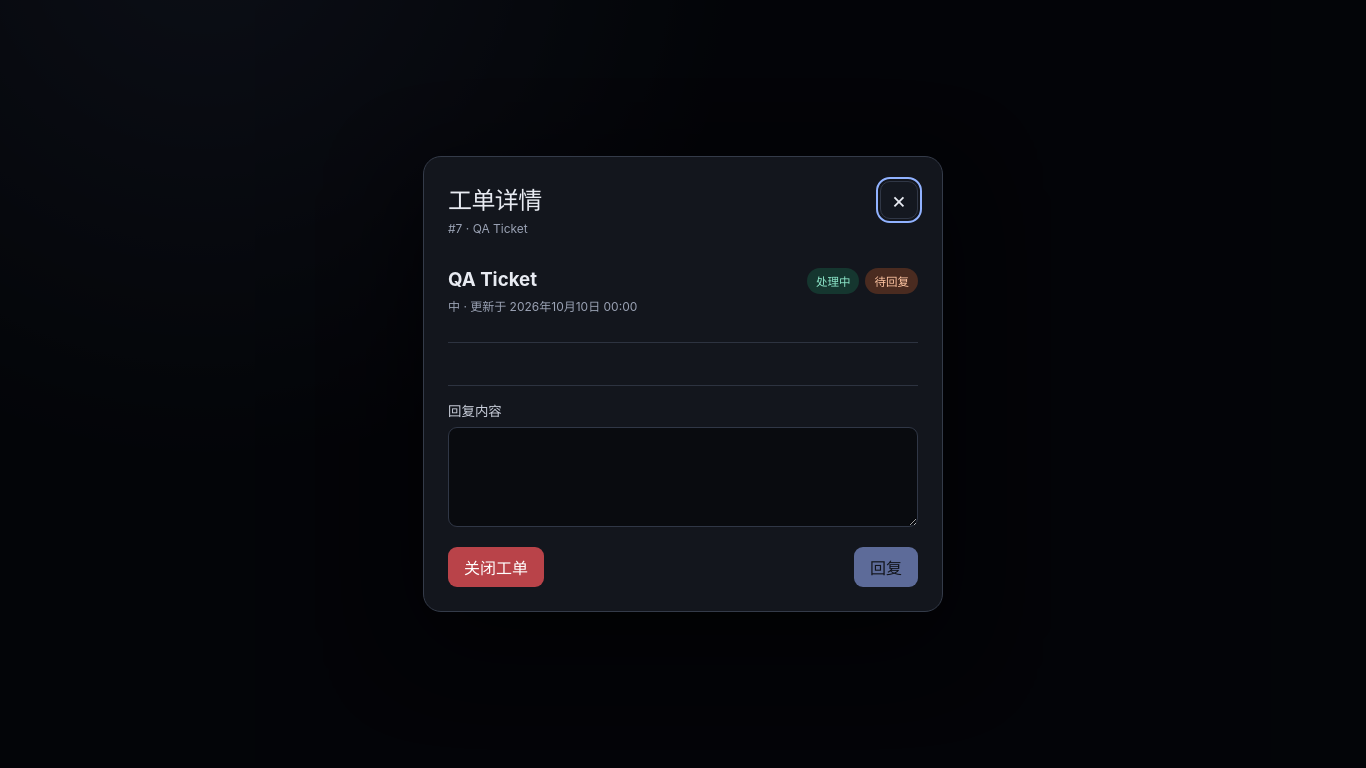
Test: ticket confirmation overlay › cancels without a write and still confirms closure normally
Click the button "关闭工单".
click(496, 567)  # box [448, 547, 544, 587]
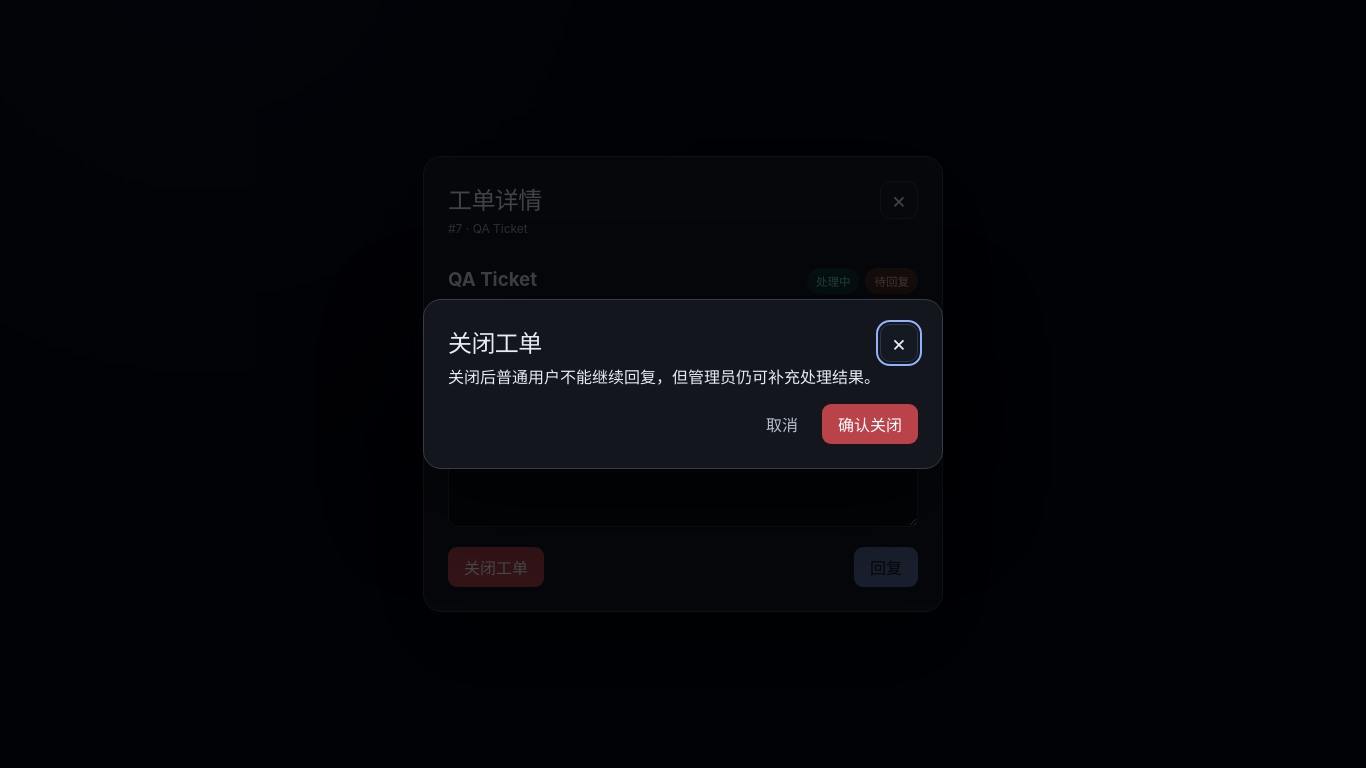
Click the button "取消".
click(782, 424)  # box [750, 404, 814, 444]
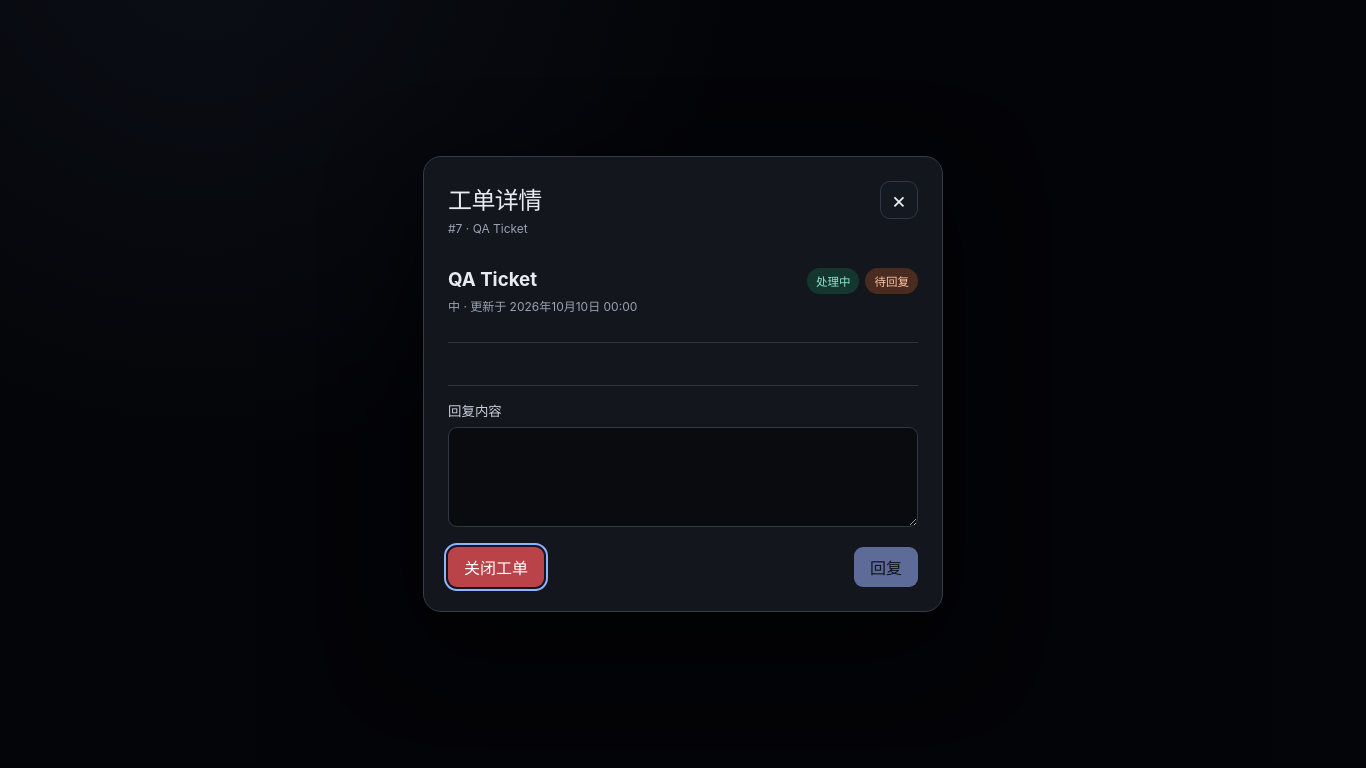
Click the button "关闭工单".
click(496, 567)  # box [448, 547, 544, 587]
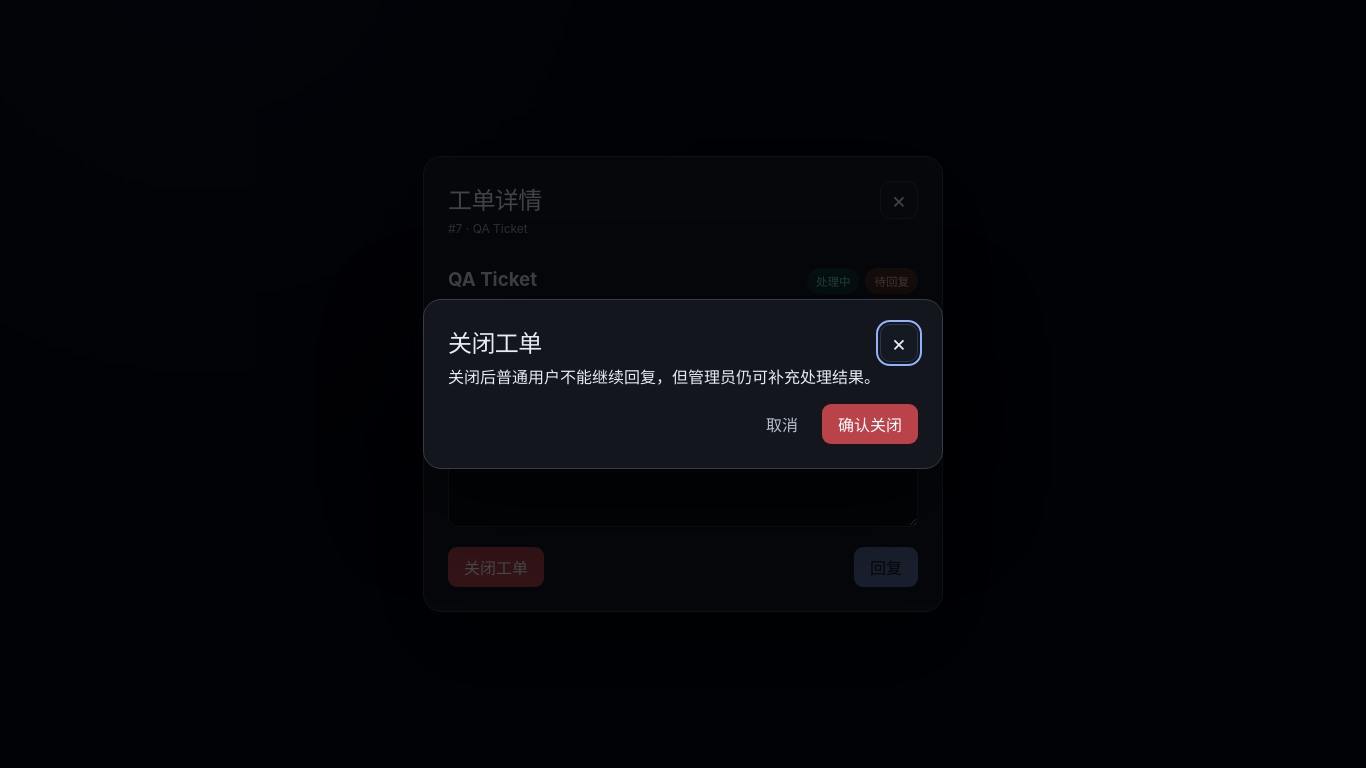
Click the button "确认关闭".
click(870, 424)  # box [822, 404, 918, 444]
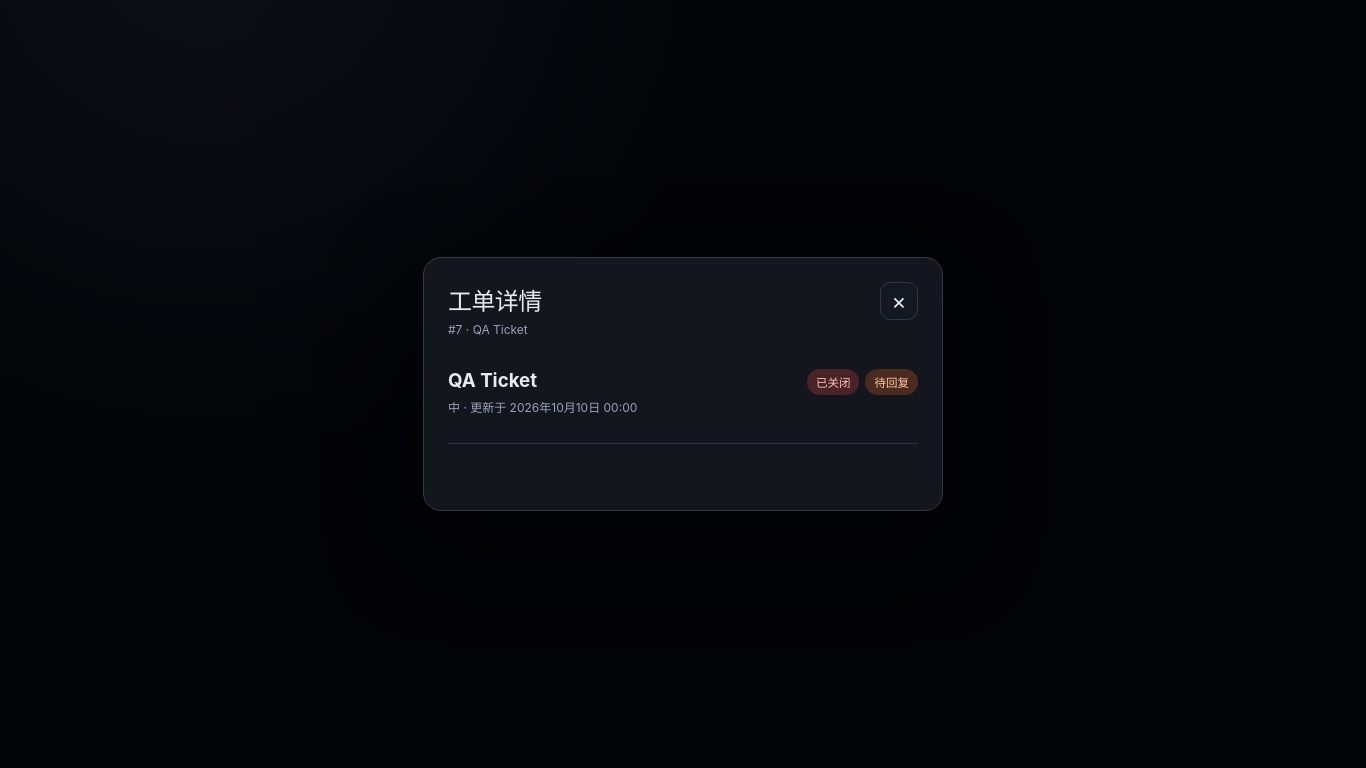
Check: the text "已关闭" is shown, box [807, 369, 859, 395]
Check: the label labelled "回复内容" is gone
